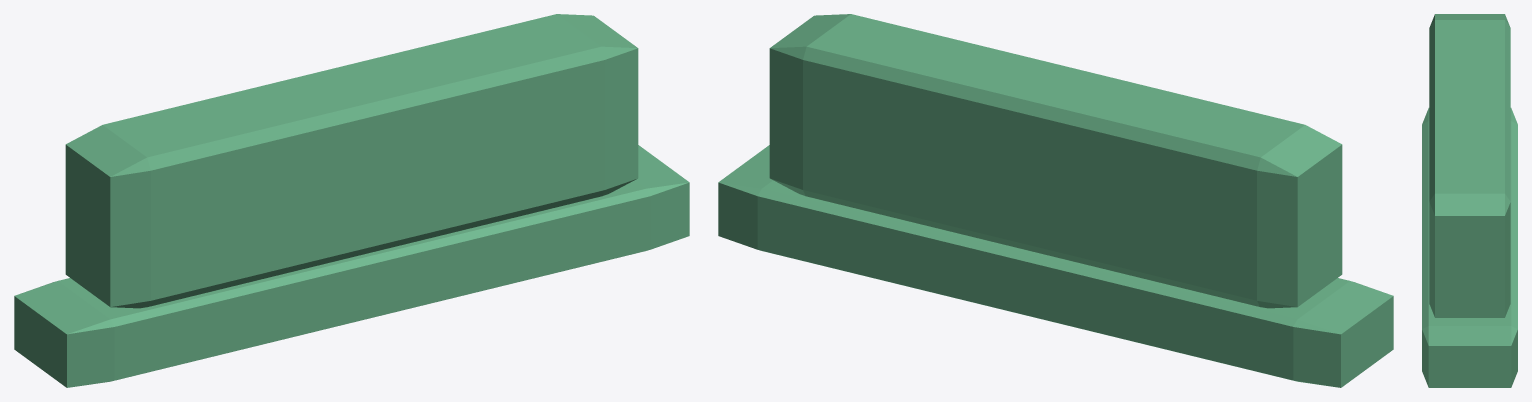
The model's file is b02_parking_gate_arm.glb.
3 renders of one model, left to right at view 1: azimuth 30°, elevation 25°; view 2: azimuth 150°, elevation 25°; view 3: azimuth 270°, elevation 25°, orthographic. The views are drawn at different scales.
Parts seen in each view (by area): view 1: b02_parking_gate_arm; view 2: b02_parking_gate_arm; view 3: b02_parking_gate_arm.
Part boxes in pixels (x1,y1,x2,y2): b02_parking_gate_arm: [14, 14, 689, 387]; b02_parking_gate_arm: [718, 14, 1393, 387]; b02_parking_gate_arm: [1422, 14, 1517, 387].
Bounding box in the file's own units: 3.86 × 1.25 × 0.656.
